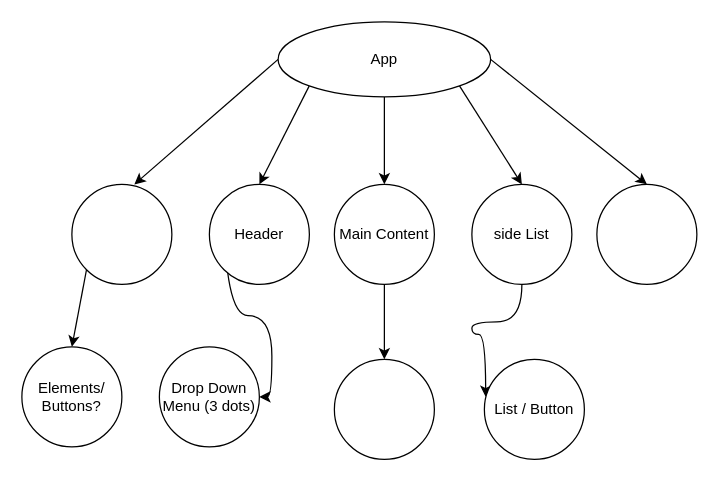
This 719x481 diagram has some shape labels left out. The box of each missing label's shape, as (x1, y1, x2, y2) in pixels:
Card: (333, 358, 434, 459)
Footer: (596, 183, 697, 284)
Side Bar: (71, 183, 172, 284)
